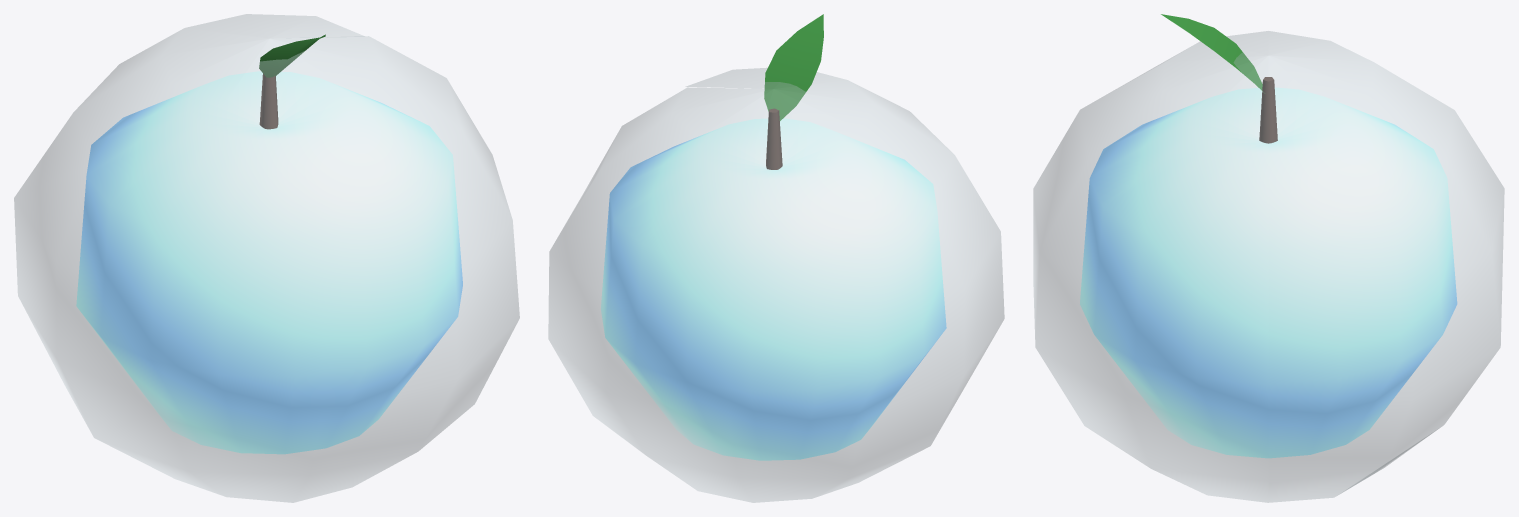
The model's file is fruit-apple-frozen.gltf.
3 views of the same model, side by side, from view 1: azimuth 30°, elevation 25°; view 2: azimuth 150°, elevation 25°; view 3: azimuth 270°, elevation 25° (orthographic). The views are drawn at different scales.
Bounding box in the file's own units: 0.4909 × 0.5183 × 0.4743.
